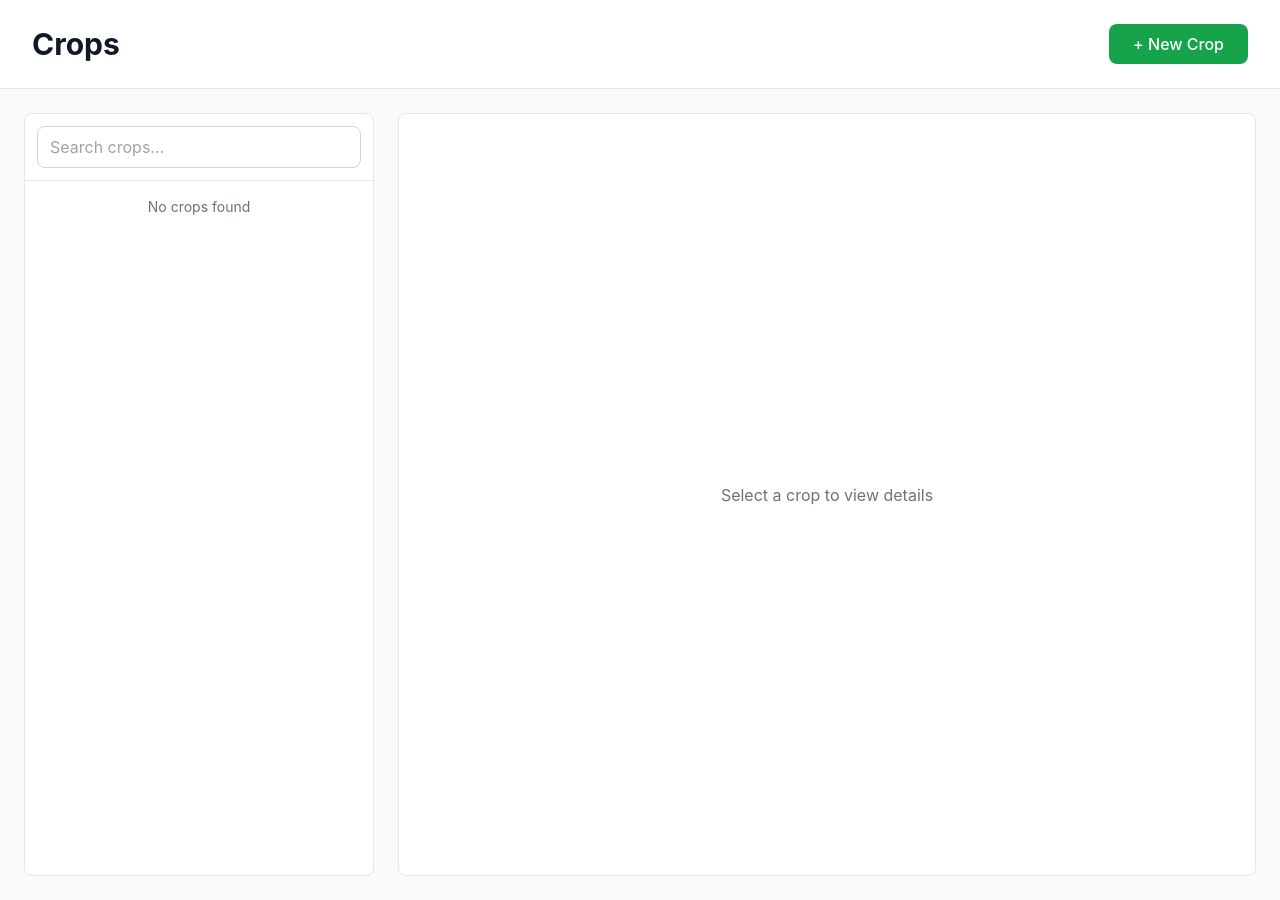
Test case: AdminCropsPage › New Crop Flow › should validate required fields before saving
Click the button "+ New Crop". click: point(1179, 44)
box: x1=1109 y1=24 x2=1248 y2=64
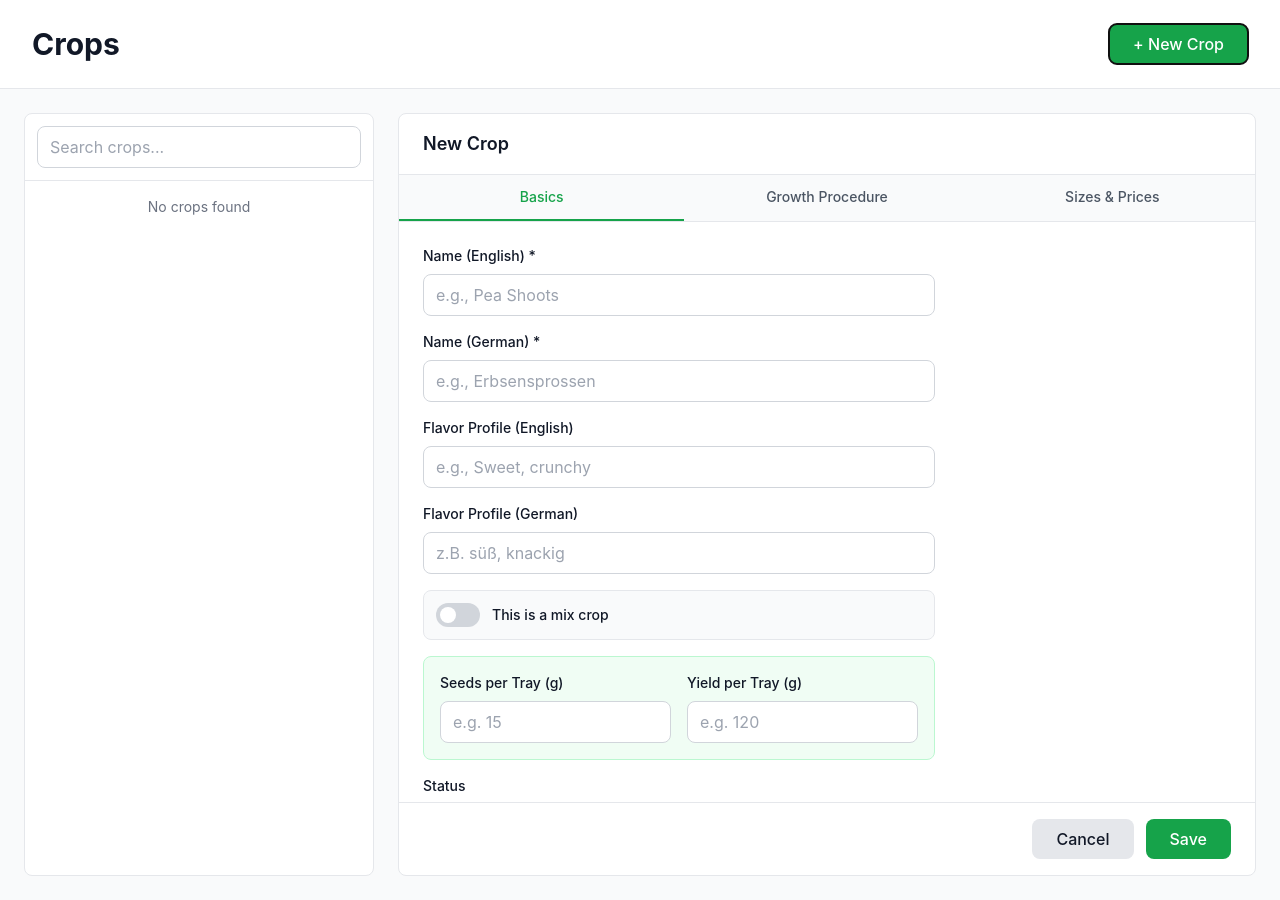
Click the button "Save". click: point(1188, 839)
box: x1=1146 y1=819 x2=1231 y2=859
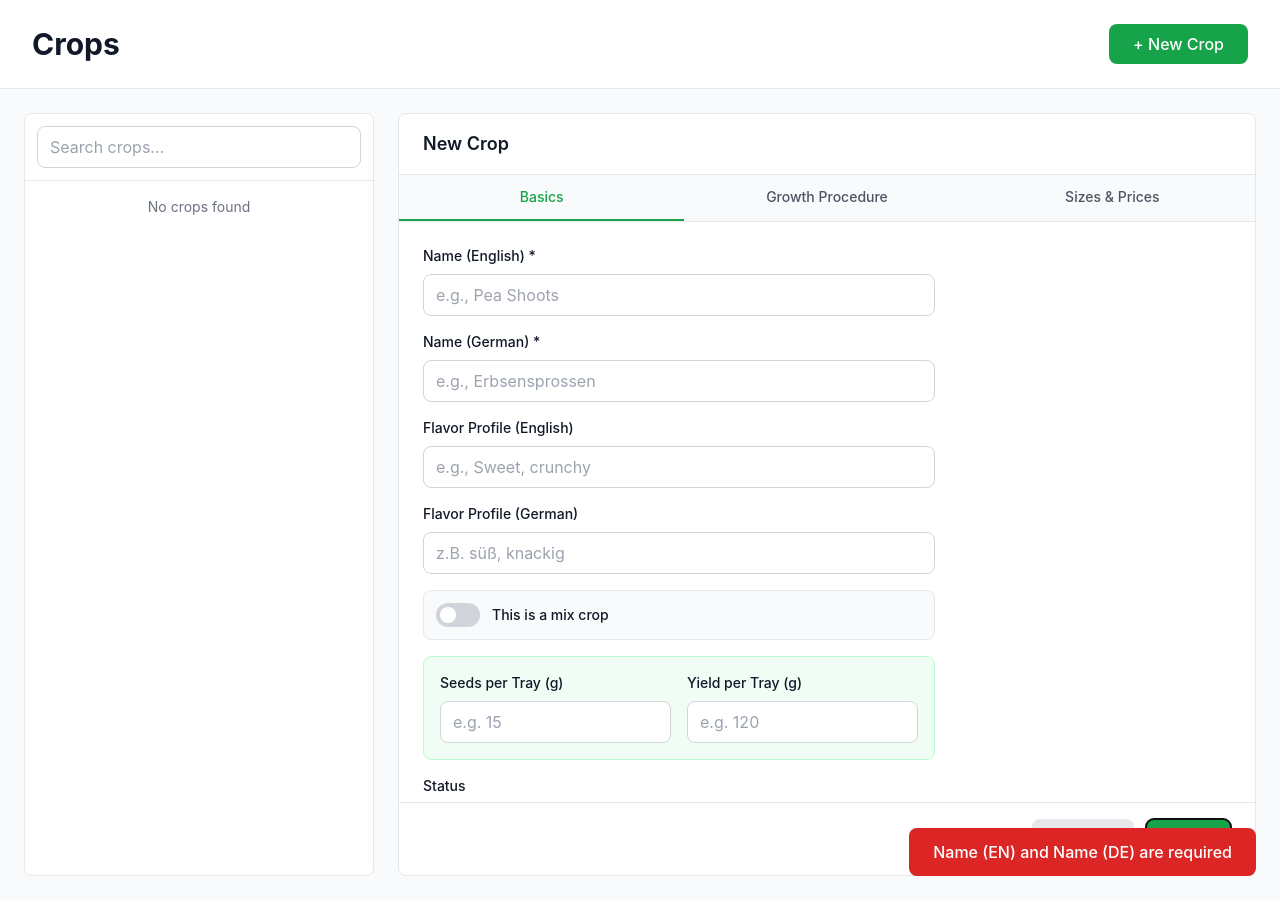
Expected: the text "Name (EN) and Name (DE) are required" is shown, x1=909 y1=828 x2=1256 y2=876
